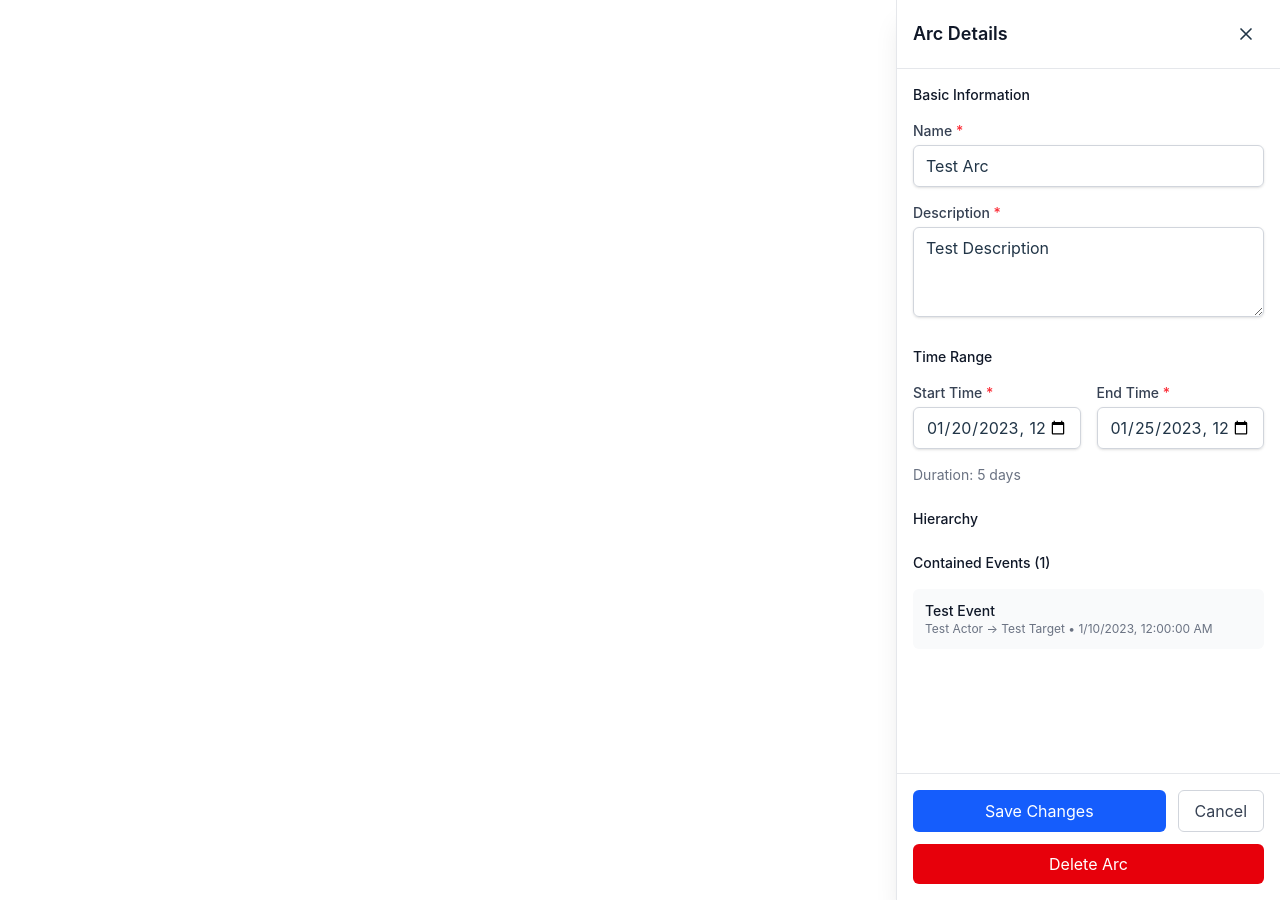
Test: ArcDetailPanel › Validation › warns about contained events outside time range
Click the button "Save Changes".
click(1039, 811)  # box [913,790,1166,832]
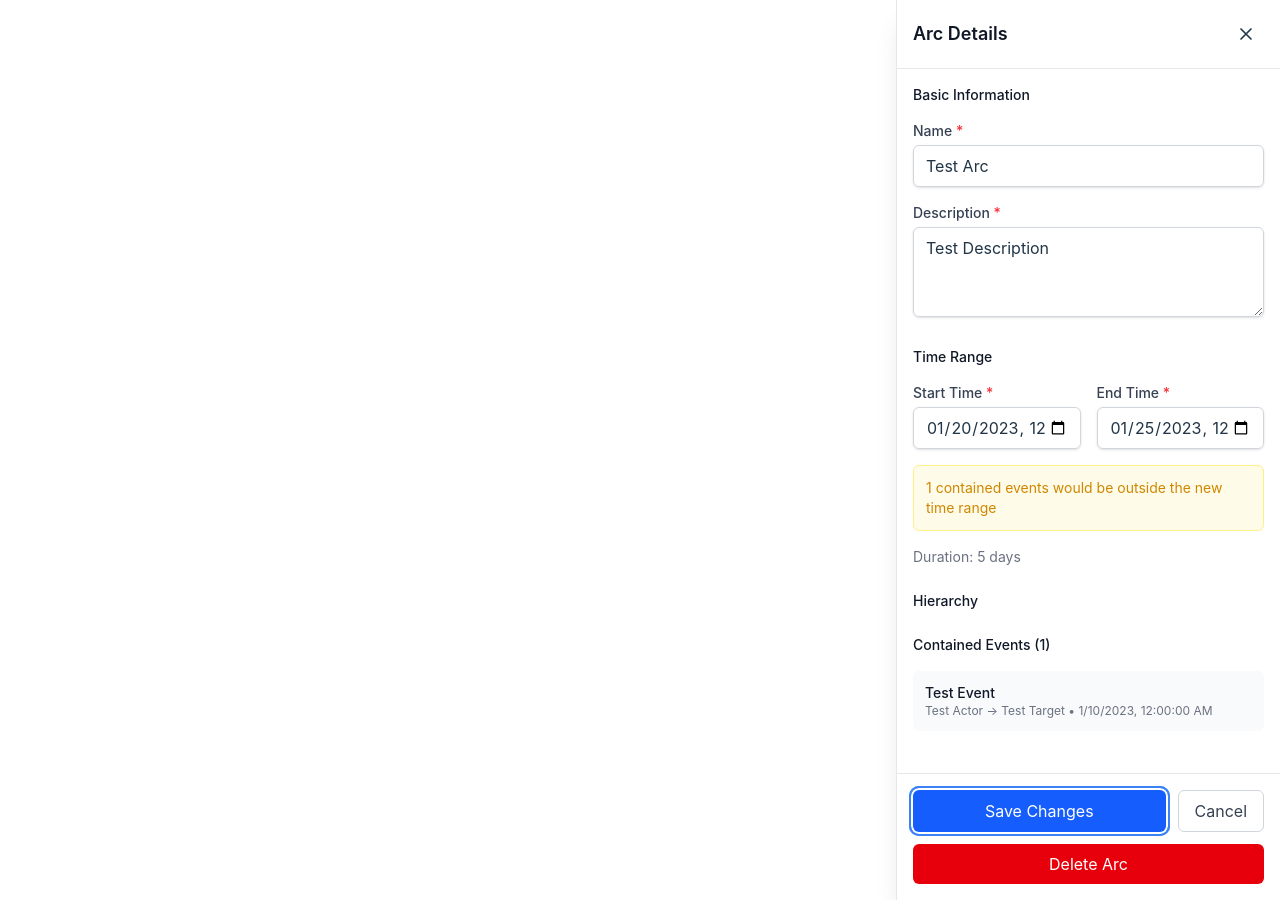
Now the text "1 contained events would be outside the new time range" is shown, box [926,478,1251,518]
